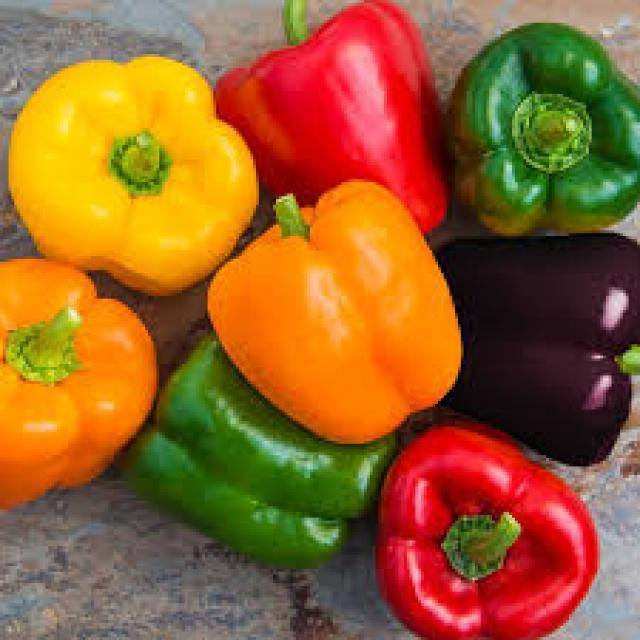Pepper: (115, 335, 474, 572), (205, 180, 463, 449), (5, 55, 262, 299), (215, 0, 452, 235), (434, 232, 640, 470), (375, 425, 600, 640), (444, 21, 640, 237), (0, 258, 160, 516)
